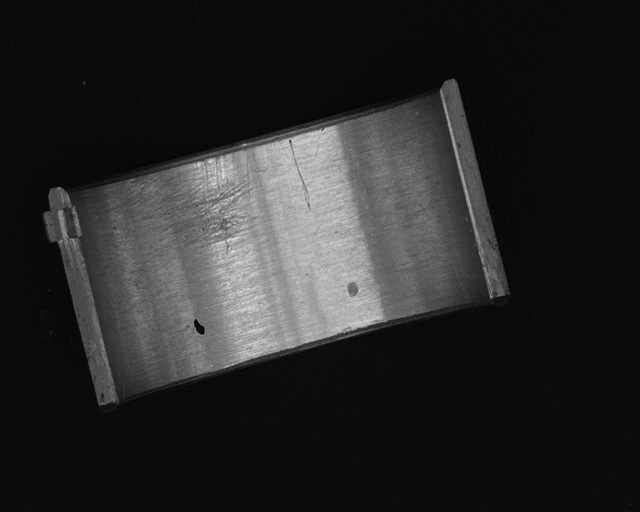blot: (193, 317, 205, 335)
bruise: (347, 282, 359, 297)
nick: (418, 203, 469, 303), (288, 138, 311, 210)
scratch: (127, 146, 261, 250)
